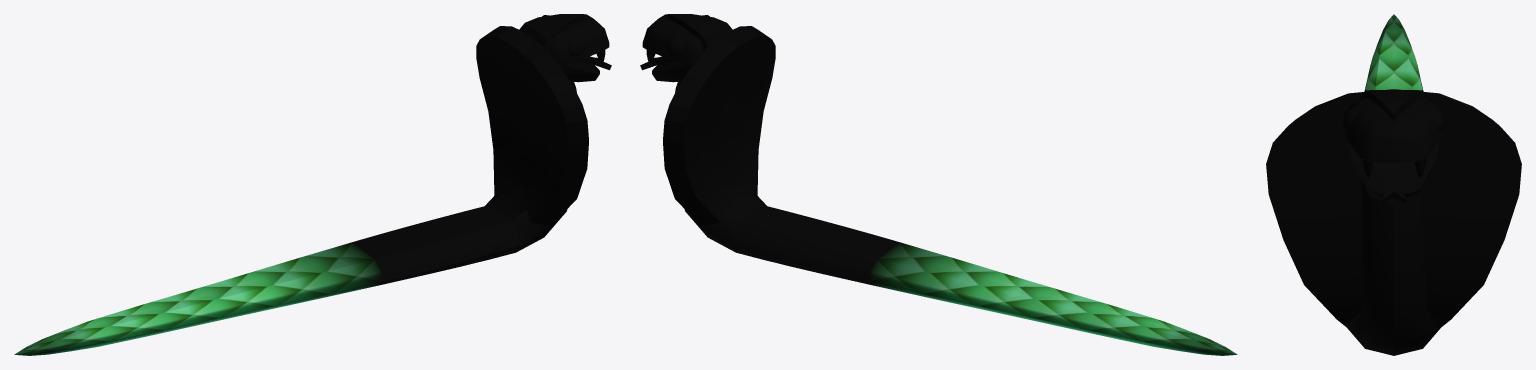
File: marrakeshBoard01.glb
The picture shows the model from 3 angles, left to right: view 1: azimuth 30°, elevation 25°; view 2: azimuth 150°, elevation 25°; view 3: azimuth 270°, elevation 25°; orthographic projection. The views are drawn at different scales.
Visible parts, largest first — view 1: marrakeshBoard01; view 2: marrakeshBoard01; view 3: marrakeshBoard01.
Part boxes in pixels (x1,y1,x2,y2): marrakeshBoard01: (14,14,611,355); marrakeshBoard01: (640,14,1237,355); marrakeshBoard01: (1266,14,1521,355).
Size of the model in its own units: 15.69 by 5.31 by 4.46.
1 material, 1 textured.
